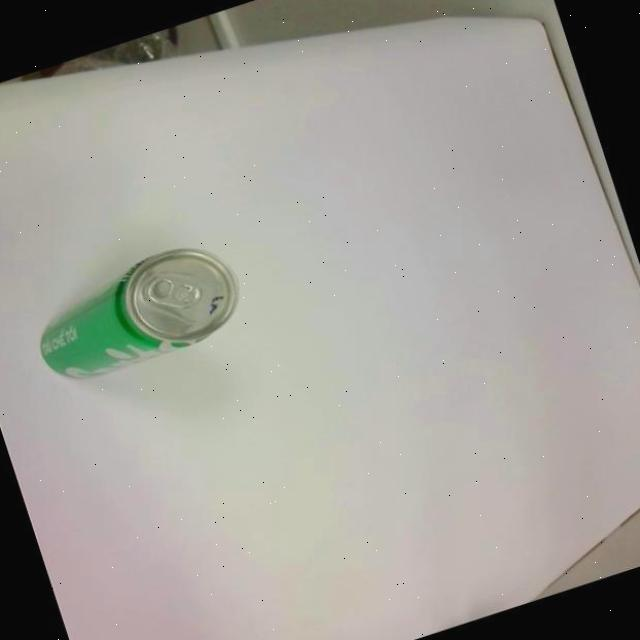debris: (22, 230, 255, 393)
